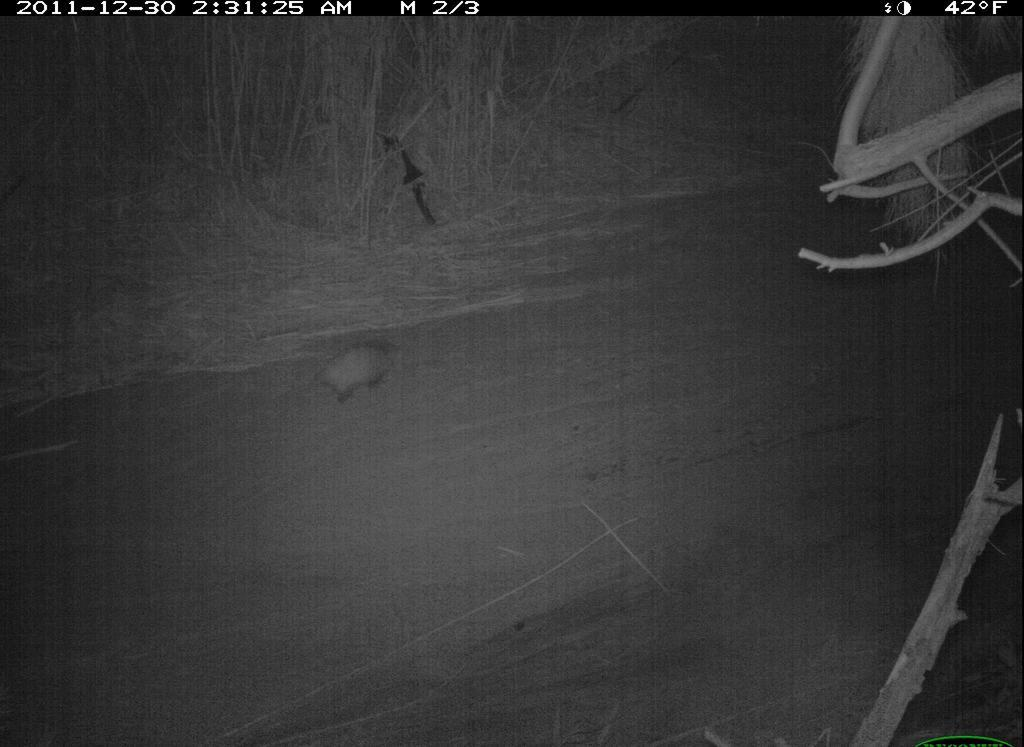opossum: (312, 335, 414, 409)
